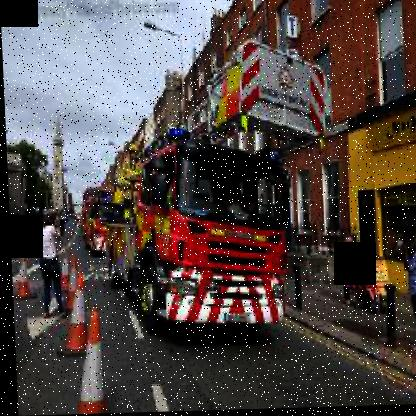emergency: (95, 35, 339, 343)
